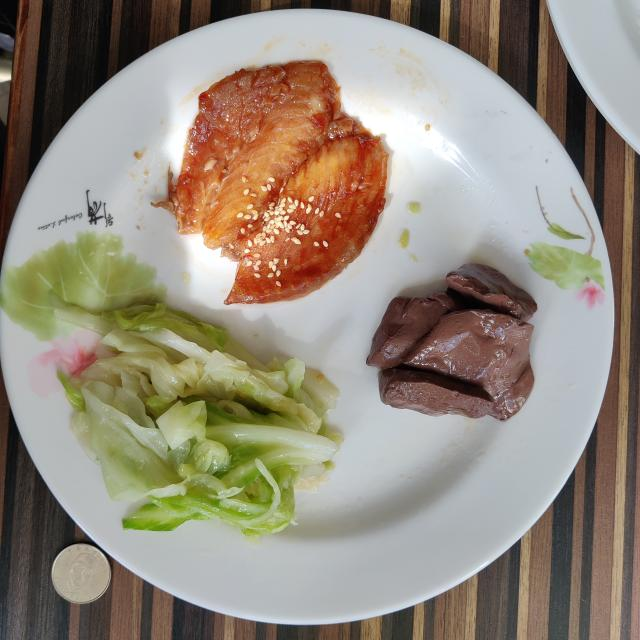Kabayaki sea bream fillet: (159, 61, 388, 304)
cabbage: (55, 300, 341, 535)
coin: (51, 544, 111, 604)
pig blood curd: (366, 264, 538, 421)
